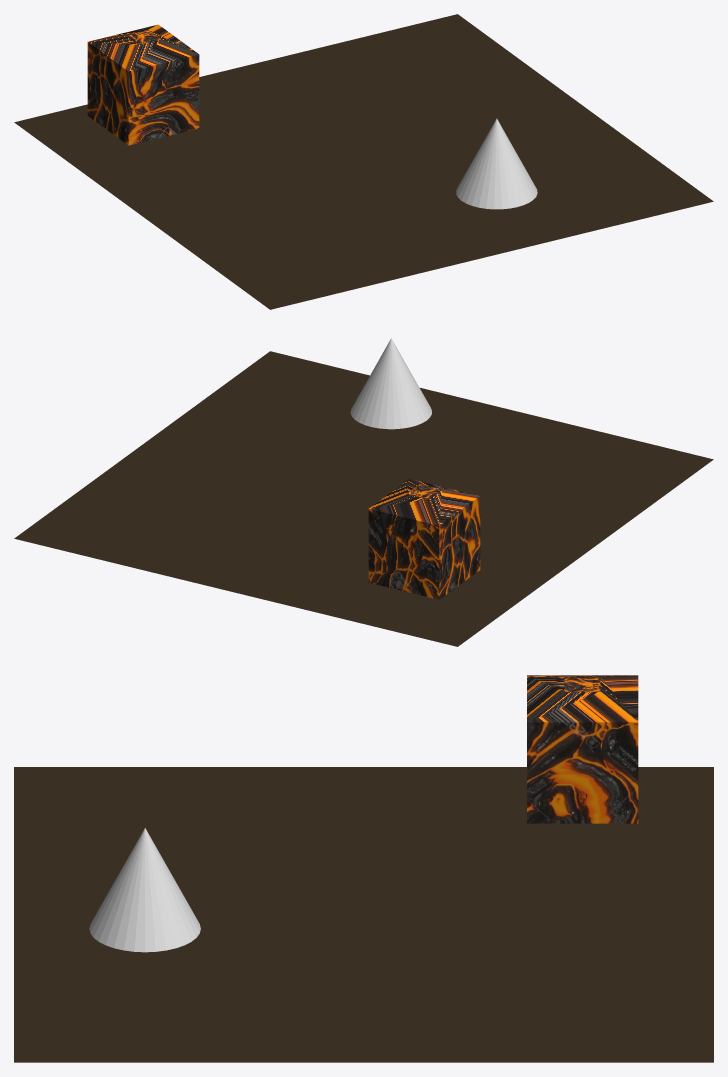
The picture shows the model from 3 angles, top to bottom: view 1: azimuth 30°, elevation 25°; view 2: azimuth 150°, elevation 25°; view 3: azimuth 270°, elevation 25°; orthographic projection. The views are drawn at different scales.
Visible parts, largest first — view 1: Plane, Cube, Cone; view 2: Plane, Cube, Cone; view 3: Plane, Cube, Cone.
Boxes of the visible parts, bbox=[...] form: Plane: bbox=[14, 14, 713, 309]; Cube: bbox=[87, 24, 199, 145]; Cone: bbox=[456, 118, 537, 209]; Plane: bbox=[14, 351, 713, 646]; Cube: bbox=[368, 479, 480, 599]; Cone: bbox=[350, 338, 431, 429]; Plane: bbox=[14, 767, 713, 1062]; Cube: bbox=[527, 675, 638, 823]; Cone: bbox=[89, 828, 200, 952].
Size of the model in its own units: 12.55 by 2.71 by 12.55.
2 materials, 1 textured.
